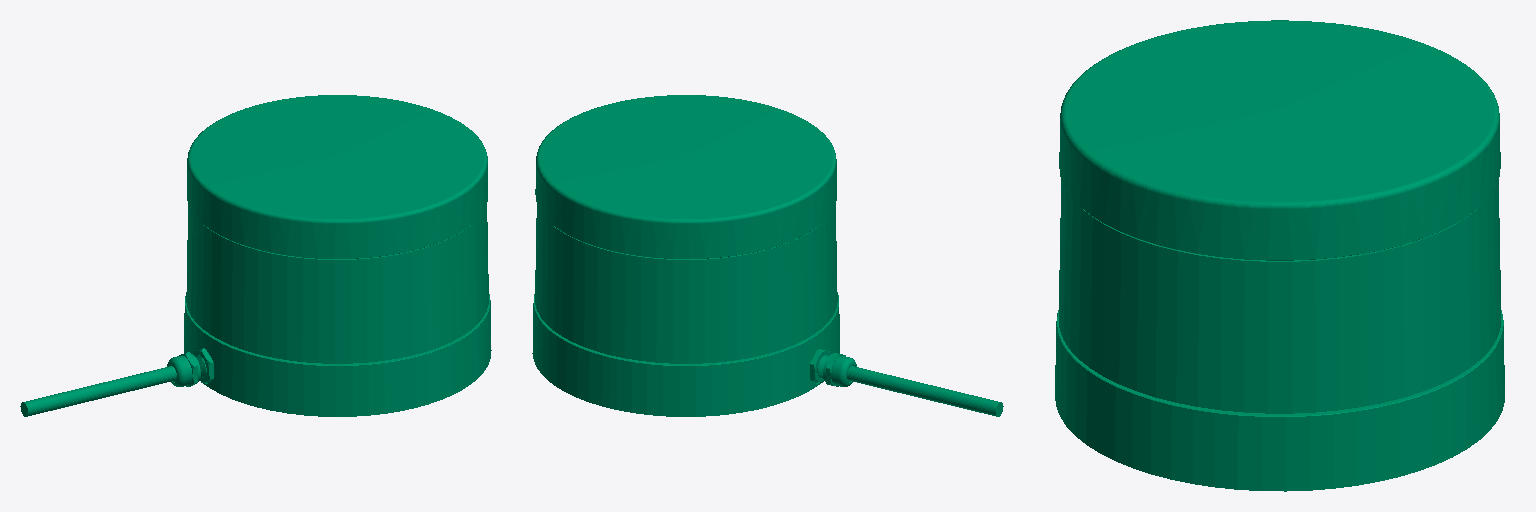
The robot description file, URDF, robot "husky_robot":
<?xml version="1.0" ?>
<!-- =================================================================================== -->
<!-- |    This document was autogenerated by xacro from ../urdf/husky.urdf.xacro       | -->
<!-- |    EDITING THIS FILE BY HAND IS NOT RECOMMENDED                                 | -->
<!-- =================================================================================== -->
<!--
Software License Agreement (BSD)

\file      husky.urdf.xacro
\authors   [author] <[email redacted]>
\copyright Copyright (c) 2015, Clearpath Robotics, Inc., All rights reserved.

Redistribution and use in source and binary forms, with or without modification, are permitted provided that
the following conditions are met:
 * Redistributions of source code must retain the above copyright notice, this list of conditions and the
   following disclaimer.
 * Redistributions in binary form must reproduce the above copyright notice, this list of conditions and the 
   following disclaimer in the documentation and/or other materials provided with the distribution.
 * Neither the name of Clearpath Robotics nor the names of its contributors may be used to endorse or promote
   products derived from this software without specific prior written permission.

THIS SOFTWARE IS PROVIDED BY THE COPYRIGHT [author] "AS IS" AND ANY EXPRESS OR IMPLIED WAR-
RANTIES, INCLUDING, BUT NOT LIMITED TO, THE IMPLIED WARRANTIES OF MERCHANTABILITY AND FITNESS FOR A PARTICULAR
PURPOSE ARE DISCLAIMED. IN NO EVENT SHALL THE COPYRIGHT [author] LIABLE FOR ANY DIRECT, IN-
DIRECT, INCIDENTAL, SPECIAL, EXEMPLARY, OR CONSEQUENTIAL DAMAGES (INCLUDING, BUT NOT LIMITED TO, PROCUREMENT
OF SUBSTITUTE GOODS OR SERVICES; LOSS OF USE, DATA, OR PROFITS; OR BUSINESS INTERRUPTION) HOWEVER CAUSED AND
ON ANY THEORY OF LIABILITY, WHETHER IN CONTRACT, STRICT LIABILITY, OR TORT (INCLUDING NEGLIGENCE OR OTHERWISE)
ARISING IN ANY WAY OUT OF THE USE OF THIS SOFTWARE, EVEN IF ADVISED OF THE POSSIBILITY OF SUCH DAMAGE.
-->
<robot name="husky_robot" xmlns:xacro="http://ros.org/wiki/xacro">
  <!-- Included URDF/XACRO Files -->
  <material name="Black">
    <color rgba="0.1 0.1 0.1 1.0"/>
  </material>
  <material name="Blue">
    <color rgba="0.0 0.0 0.8 1.0"/>
  </material>
  <material name="Green">
    <color rgba="0.0 0.8 0.0 1.0"/>
  </material>
  <material name="Grey">
    <color rgba="0.7 0.7 0.7 1.0"/>
  </material>
  <material name="DarkGrey">
    <color rgba="0.3 0.3 0.3 1.0"/>
  </material>
  <material name="Red">
    <color rgba="0.8 0.0 0.0 1.0"/>
  </material>
  <material name="White">
    <color rgba="1.0 1.0 1.0 1.0"/>
  </material>
  <material name="Yellow">
    <color rgba="0.8 0.8 0.0 1.0"/>
  </material>
  <!-- Base Size -->
  <!-- Wheel Mounting Positions -->
  <!-- Wheel Properties -->
  <!-- Base link is on the ground under the robot -->
  <link name="base_footprint"/>
  <gazebo reference="base_footprint">
    <material>Gazebo/DarkGrey</material>
  </gazebo>
  <joint name="chassis_joint" type="fixed">
    <origin rpy="0 0 0" xyz="0 0 0.14493"/>
    <parent link="base_footprint"/>
    <child link="base_link"/>
  </joint>
  <!-- Chassis link is the center of the robot's bottom plate -->
  <link name="base_link">
    <visual>
      <origin rpy="0 0 0" xyz="0 0 0"/>
      <geometry>
        <mesh filename="meshes/base_link.dae"/>
      </geometry>
      <material name="Black"/>
    </visual>
    <collision>
      <origin rpy="0 0 0" xyz="0 0 0.12498"/>
      <geometry>
        <!-- Make collision box slightly bigger in x and z directions. -->
        <box size="1.0074 0.5709 0.2075"/>
      </geometry>
    </collision>
    <inertial>
      <mass value="33.455"/>
      <origin xyz="-0.08748 -0.00085 0.09947"/>
      <inertia ixx="0.6022" ixy="-0.02364" ixz="-0.1197" iyy="1.7386" iyz="-0.001544" izz="2.0296"/>
    </inertial>
  </link>
  <gazebo reference="base_link">
    </gazebo>
  <!-- IMU Link is the standard mounting position for the UM6 IMU.-->
  <!-- Can be modified with environment variables in /etc/ros/setup.bash -->

  <link name="imu_link">
    <visual>
      <origin rpy="1.570795 0 0.0" xyz="0 0 0"/>
      <geometry>
        <mesh filename="meshes/velodyne.STL"/>
      </geometry>
    </visual>
  </link>
  <joint name="imu_joint" type="fixed">
    <origin rpy="0 0 3.14159" xyz="-0.25 0 0.309"/>
    <parent link="base_link"/>
    <child link="imu_link"/>
  </joint>
  <gazebo reference="imu_link">
    </gazebo>
  <!-- Husky wheel macros -->
  <link name="front_left_wheel_link">
  	<contact>
      <lateral_friction value="1.0"/>
      <rolling_friction value="0.0"/>
      <stiffness value="30000"/>
      <damping value="1000"/>
    </contact>
    
    <inertial>
      <mass value="2.637"/>
      <origin xyz="0 0 0"/>
      <inertia ixx="0.02467" ixy="0" ixz="0" iyy="0.02467" iyz="0" izz="0.04411"/>
    </inertial>
    <visual>
      <origin rpy="0 0 0" xyz="0 0 0"/>
      <geometry>
        <mesh filename="meshes/wheel.dae"/>
      </geometry>
      <material name="DarkGrey"/>
    </visual>
    <collision>
      <origin rpy="1.570795 0 0" xyz="0 0 0"/>
      <geometry>
        <cylinder length="0.1143" radius="0.17775"/>
      </geometry>
    </collision>
  </link>
  <gazebo reference="front_left_wheel_link">
    <mu1 value="1.0"/>
    <mu2 value="1.0"/>
    <kp value="10000000.0"/>
    <kd value="1.0"/>
    <fdir1 value="1 0 0"/>
    <material>Gazebo/Grey</material>
    <turnGravityOff>false</turnGravityOff>
  </gazebo>
  <joint name="front_left_wheel" type="continuous">
    <parent link="base_link"/>
    <child link="front_left_wheel_link"/>
    <origin rpy="0 0 0" xyz="0.256 0.2854 0.03282"/>
    <axis rpy="0 0 0" xyz="0 1 0"/>
  </joint>
  <transmission name="front_left_wheel_trans" type="SimpleTransmission">
    <type>transmission_interface/SimpleTransmission</type>
    <actuator name="front_left_wheel_motor">
      <mechanicalReduction>1</mechanicalReduction>
    </actuator>
    <joint name="front_left_wheel">
      <hardwareInterface>VelocityJointInterface</hardwareInterface>
    </joint>
  </transmission>
  <link name="front_right_wheel_link">
    <contact>
      <lateral_friction value="1.0"/>
      <rolling_friction value="0.0"/>
      <stiffness value="30000"/>
      <damping value="1000"/>
    </contact>
    
    <inertial>
      <mass value="2.637"/>
      <origin xyz="0 0 0"/>
      <inertia ixx="0.02467" ixy="0" ixz="0" iyy="0.02467" iyz="0" izz="0.04411"/>
    </inertial>
    <visual>
      <origin rpy="0 0 0" xyz="0 0 0"/>
      <geometry>
        <mesh filename="meshes/wheel.dae"/>
      </geometry>
      <material name="DarkGrey"/>
    </visual>
    <collision>
      <origin rpy="1.570795 0 0" xyz="0 0 0"/>
      <geometry>
        <cylinder length="0.1143" radius="0.17775"/>
      </geometry>
    </collision>
  </link>
  <gazebo reference="front_right_wheel_link">
    <mu1 value="1.0"/>
    <mu2 value="1.0"/>
    <kp value="10000000.0"/>
    <kd value="1.0"/>
    <fdir1 value="1 0 0"/>
    <material>Gazebo/Grey</material>
    <turnGravityOff>false</turnGravityOff>
  </gazebo>
  <joint name="front_right_wheel" type="continuous">
    <parent link="base_link"/>
    <child link="front_right_wheel_link"/>
    <origin rpy="0 0 0" xyz="0.256 -0.2854 0.03282"/>
    <axis rpy="0 0 0" xyz="0 1 0"/>
  </joint>
  <transmission name="front_right_wheel_trans" type="SimpleTransmission">
    <type>transmission_interface/SimpleTransmission</type>
    <actuator name="front_right_wheel_motor">
      <mechanicalReduction>1</mechanicalReduction>
    </actuator>
    <joint name="front_right_wheel">
      <hardwareInterface>VelocityJointInterface</hardwareInterface>
    </joint>
  </transmission>
  <link name="rear_left_wheel_link">
    <contact>
      <lateral_friction value="1.0"/>
      <rolling_friction value="0.0"/>
      <stiffness value="30000"/>
      <damping value="1000"/>
    </contact>
    
    <inertial>
      <mass value="2.637"/>
      <origin xyz="0 0 0"/>
      <inertia ixx="0.02467" ixy="0" ixz="0" iyy="0.02467" iyz="0" izz="0.04411"/>
    </inertial>
    <visual>
      <origin rpy="0 0 0" xyz="0 0 0"/>
      <geometry>
        <mesh filename="meshes/wheel.dae"/>
      </geometry>
      <material name="DarkGrey"/>
    </visual>
    <collision>
      <origin rpy="1.570795 0 0" xyz="0 0 0"/>
      <geometry>
        <cylinder length="0.1143" radius="0.17775"/>
      </geometry>
    </collision>
  </link>
  <gazebo reference="rear_left_wheel_link">
    <mu1 value="1.0"/>
    <mu2 value="1.0"/>
    <kp value="10000000.0"/>
    <kd value="1.0"/>
    <fdir1 value="1 0 0"/>
    <material>Gazebo/Grey</material>
    <turnGravityOff>false</turnGravityOff>
  </gazebo>
  <joint name="rear_left_wheel" type="continuous">
    <parent link="base_link"/>
    <child link="rear_left_wheel_link"/>
    <origin rpy="0 0 0" xyz="-0.256 0.2854 0.03282"/>
    <axis rpy="0 0 0" xyz="0 1 0"/>
  </joint>
  <transmission name="rear_left_wheel_trans" type="SimpleTransmission">
    <type>transmission_interface/SimpleTransmission</type>
    <actuator name="rear_left_wheel_motor">
      <mechanicalReduction>1</mechanicalReduction>
    </actuator>
    <joint name="rear_left_wheel">
      <hardwareInterface>VelocityJointInterface</hardwareInterface>
    </joint>
  </transmission>
  <link name="rear_right_wheel_link">
    <contact>
      <lateral_friction value="1.0"/>
      <rolling_friction value="0.0"/>
      <stiffness value="30000"/>
      <damping value="1000"/>
    </contact>
    
    <inertial>
      <mass value="2.637"/>
      <origin xyz="0 0 0"/>
      <inertia ixx="0.02467" ixy="0" ixz="0" iyy="0.02467" iyz="0" izz="0.04411"/>
    </inertial>
    <visual>
      <origin rpy="0 0 0" xyz="0 0 0"/>
      <geometry>
        <mesh filename="meshes/wheel.dae"/>
      </geometry>
      <material name="DarkGrey"/>
    </visual>
    <collision>
      <origin rpy="1.570795 0 0" xyz="0 0 0"/>
      <geometry>
        <cylinder length="0.1143" radius="0.17775"/>
      </geometry>
    </collision>
  </link>
  <gazebo reference="rear_right_wheel_link">
    <mu1 value="1.0"/>
    <mu2 value="1.0"/>
    <kp value="10000000.0"/>
    <kd value="1.0"/>
    <fdir1 value="1 0 0"/>
    <material>Gazebo/Grey</material>
    <turnGravityOff>false</turnGravityOff>
  </gazebo>
  <joint name="rear_right_wheel" type="continuous">
    <parent link="base_link"/>
    <child link="rear_right_wheel_link"/>
    <origin rpy="0 0 0" xyz="-0.256 -0.2854 0.03282"/>
    <axis rpy="0 0 0" xyz="0 1 0"/>
  </joint>
  <transmission name="rear_right_wheel_trans" type="SimpleTransmission">
    <type>transmission_interface/SimpleTransmission</type>
    <actuator name="rear_right_wheel_motor">
      <mechanicalReduction>1</mechanicalReduction>
    </actuator>
    <joint name="rear_right_wheel">
      <hardwareInterface>VelocityJointInterface</hardwareInterface>
    </joint>
  </transmission>
  <link name="top_plate_link">
    <visual>
      <origin rpy="0 0 0" xyz="0 0 0"/>
      <geometry>
        <mesh filename="meshes/top_plate.dae"/>
      </geometry>
      <material name="Yellow"/>
    </visual>
  </link>
  <joint name="top_plate" type="fixed">
    <parent link="base_link"/>
    <child link="top_plate_link"/>
  </joint>
  <gazebo reference="top_plate_link">
    <material>Gazebo/Yellow</material>
  </gazebo>
  <link name="user_rail_link">
    <visual>
      <geometry>
        <mesh filename="meshes/user_rail.dae"/>
      </geometry>
      <material name="DarkGrey"/>
    </visual>
  </link>
  <joint name="user_rail" type="fixed">
    <origin rpy="0 0 0" xyz="0.272 0 0.245"/>
    <parent link="base_link"/>
    <child link="user_rail_link"/>
  </joint>
  <gazebo reference="user_rail_link">
    <material>Gazebo/DarkGrey</material>
  </gazebo>
  <link name="front_bumper_link">
    <visual>
      <geometry>
        <mesh filename="meshes/bumper.dae"/>
      </geometry>
      <material name="DarkGrey"/>
    </visual>
  </link>
  <joint name="front_bumper" type="fixed">
    <origin rpy="0 0 0" xyz="0.48 0 0.091"/>
    <parent link="base_link"/>
    <child link="front_bumper_link"/>
  </joint>
  <gazebo reference="front_bumper_link">
    <material>Gazebo/DarkGrey</material>
  </gazebo>
  <link name="rear_bumper_link">
    <visual>
      <geometry>
        <mesh filename="meshes/bumper.dae"/>
      </geometry>
      <material name="DarkGrey"/>
    </visual>
  </link>
  <joint name="rear_bumper" type="fixed">
    <origin rpy="0 0 3.14159" xyz="-0.48 0 0.091"/>
    <parent link="base_link"/>
    <child link="rear_bumper_link"/>
  </joint>
  <gazebo reference="rear_bumper_link">
    <material>Gazebo/DarkGrey</material>
  </gazebo>
</robot>

--- Facts derived from the render (not from the file) ---
Views: 3 orthographic renders of the robot side by side, from view 1: azimuth 30°, elevation 25°; view 2: azimuth 150°, elevation 25°; view 3: azimuth 270°, elevation 25°.
Robot: husky_robot — 11 links, 10 joints (4 continuous, 6 fixed); root link base_footprint; default pose: all joints at 0.
Links seen in each view (by area): view 1: imu_link; view 2: imu_link; view 3: imu_link.
Link boxes in pixels (bbox=[...]): imu_link: bbox=[20, 95, 491, 416]; imu_link: bbox=[532, 95, 1003, 416]; imu_link: bbox=[1055, 20, 1504, 491].
Bounding box of the posed robot: 0.2043 × 0.122 × 0.0859 m (x, y, z).
1 mesh visuals loaded from 6 distinct referenced files (1 binary STL); not drawn: 9 (reference not matched to a file when rendering).